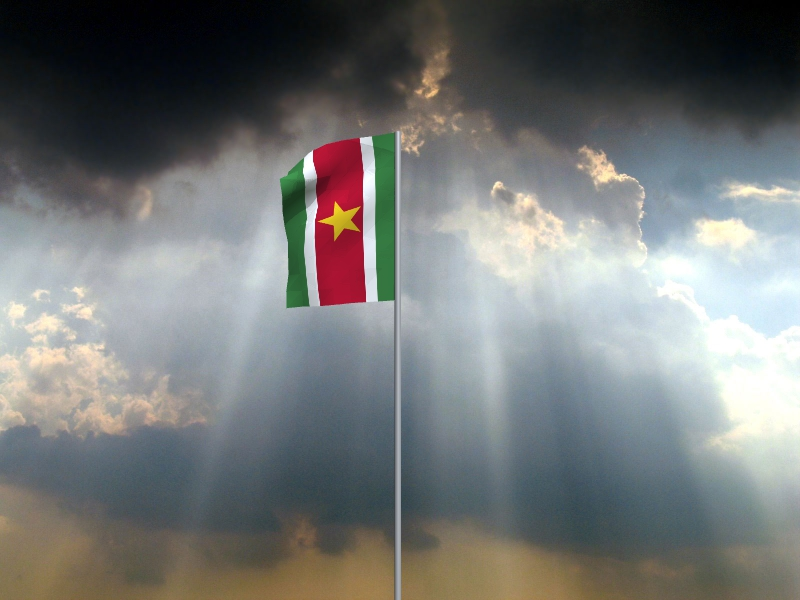sr: (280, 134, 395, 310)
